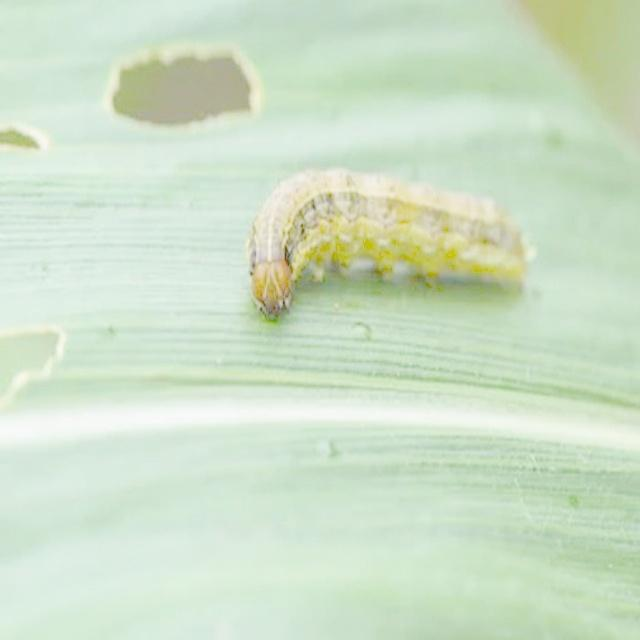Plaga: (244, 171, 531, 329)
